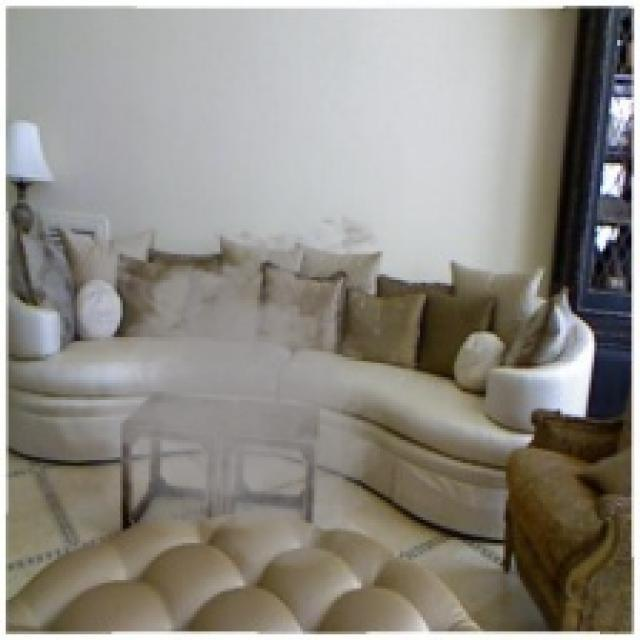Smoke: (34, 202, 437, 574)
